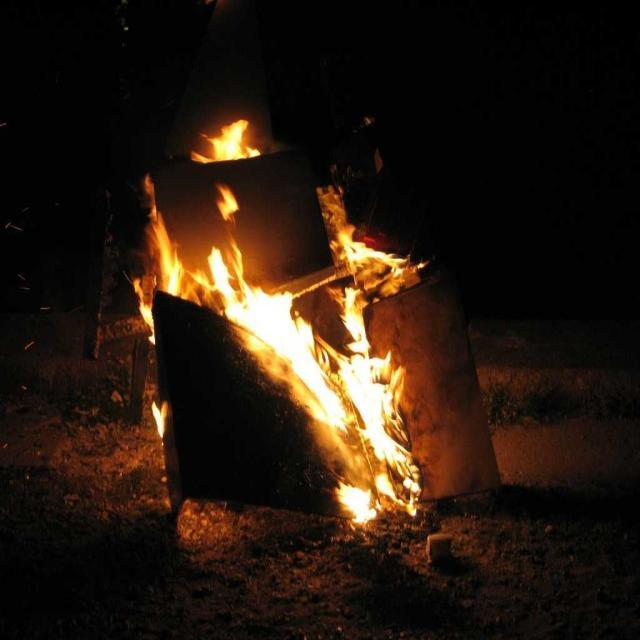Fire: (150, 245, 407, 508)
